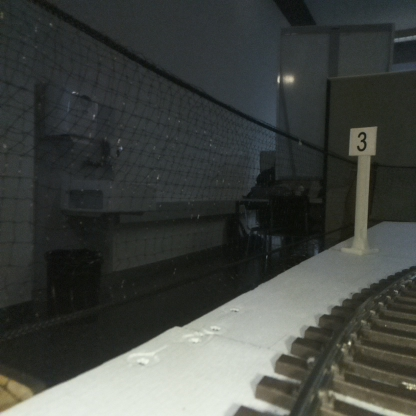white-info-3: (349, 126, 376, 249)
